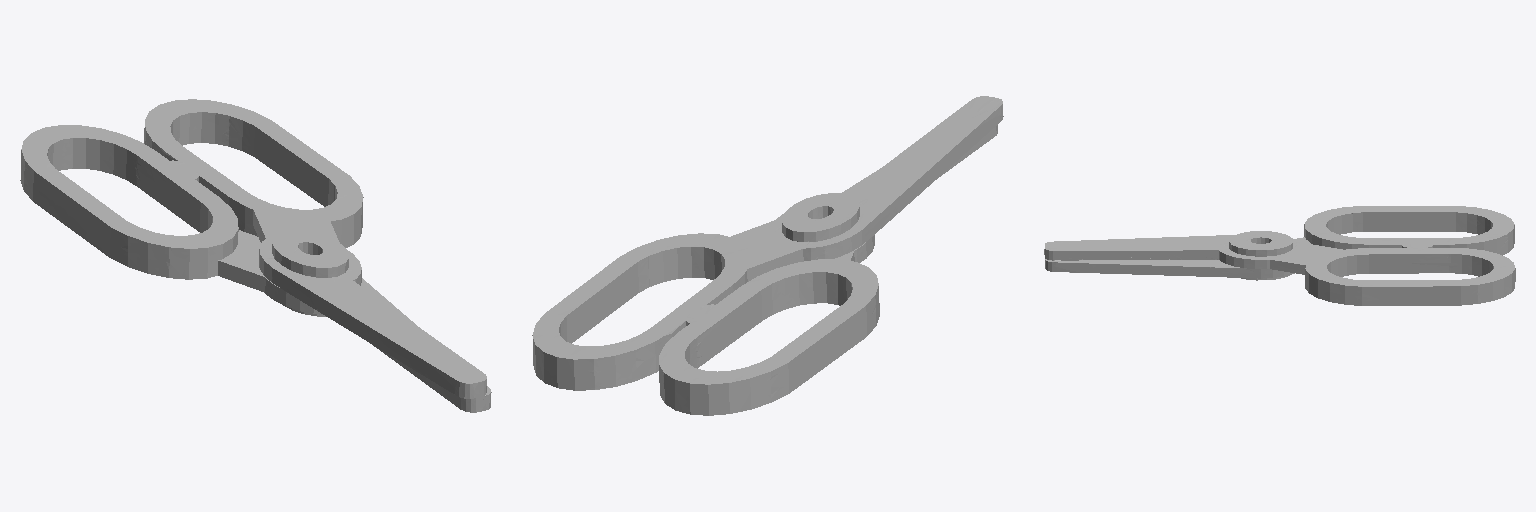
The robot description file, URDF, robot "root":
<robot name="root">
  <link name="link_001">
    <visual>
      <origin xyz="0 0 0" rpy="0 0 0"/>
      <geometry>
        <mesh filename="scissors.obj" scale="1.0000E+00 1.5000E+00 1.0000E+00"/>
      </geometry>
      <material name="">
        <color rgba="7.50E-01 7.50E-01 7.50E-01 1"/>
      </material>
    </visual>
    <collision>
      <origin xyz="0 0 0" rpy="0 0 0"/>
      <geometry>
        <mesh filename="scissors.obj" scale="1.0000E+00 1.5000E+00 1.0000E+00"/>
      </geometry>
    </collision>
    <inertial>
      <mass value="0.16"/> <!-- 质量：0.1kg -->
    </inertial>
  </link>
</robot>

--- Facts derived from the render (not from the file) ---
The picture shows the robot from 3 angles, left to right: view 1: azimuth 30°, elevation 25°; view 2: azimuth 150°, elevation 25°; view 3: azimuth 270°, elevation 25°; orthographic projection.
Robot: root — 1 links, 0 joints (none); root link link_001; default pose: every joint at zero.
Visible links, largest first — view 1: link_001; view 2: link_001; view 3: link_001.
Boxes of the visible links, x1,y1,x2,y2 form: link_001: [20, 99, 491, 412]; link_001: [532, 96, 1003, 415]; link_001: [1044, 206, 1515, 305].
Size in the robot's own frame: 0.0741 by 0.195 by 0.0145 metres.
1 mesh visuals loaded from 1 distinct referenced files (1 OBJ).
